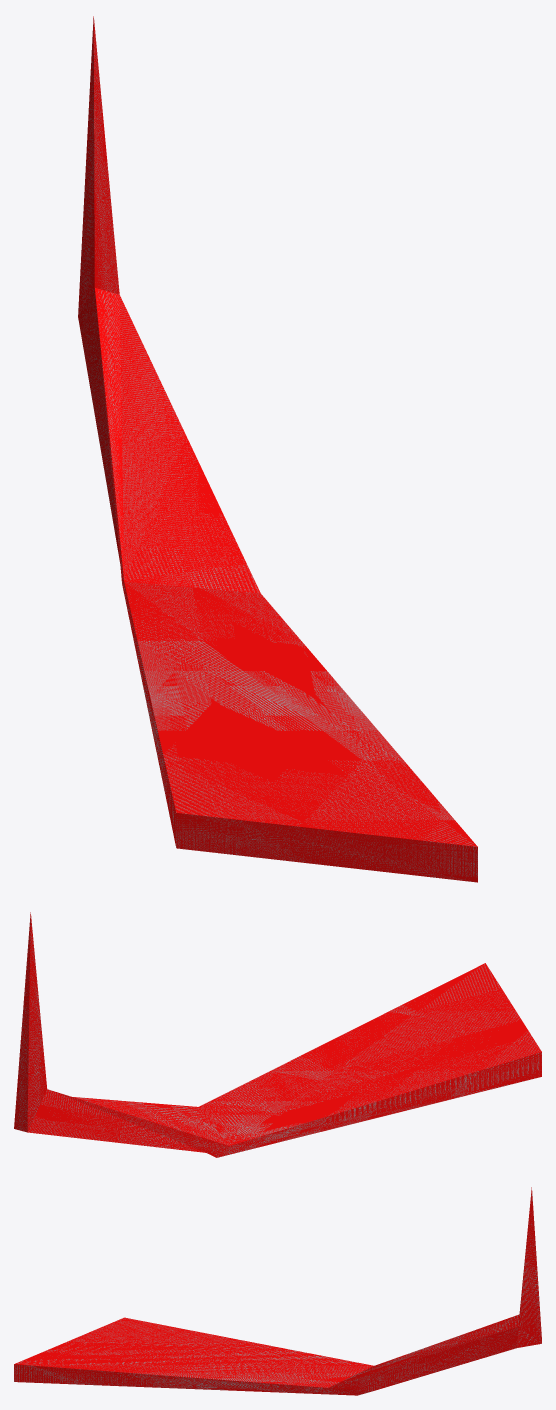
Rendered from ShoulderBones2.dae.
3 views of the same model, one above another, from view 1: azimuth 30°, elevation 25°; view 2: azimuth 150°, elevation 25°; view 3: azimuth 270°, elevation 25° (orthographic). The views are drawn at different scales.
Parts seen in each view (by area): view 1: SketchUp; view 2: SketchUp; view 3: SketchUp.
Boxes of the visible parts, x1,y1,x2,y2 form: SketchUp: (78, 16, 477, 882); SketchUp: (14, 912, 541, 1157); SketchUp: (14, 1187, 541, 1395).
Size of the model in its own units: 43.26 by 116 by 55.51.
